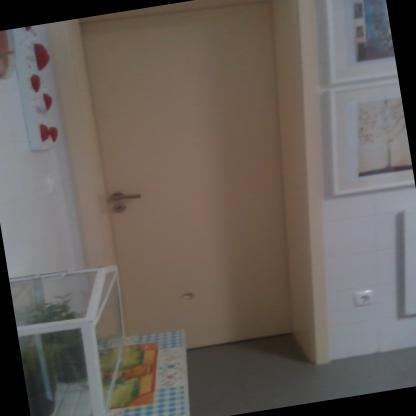closed: (60, 0, 334, 401)
